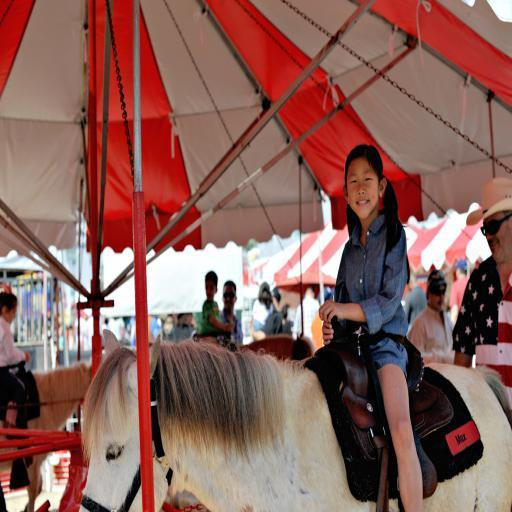horse: (76, 326, 512, 512), (0, 358, 92, 512)
